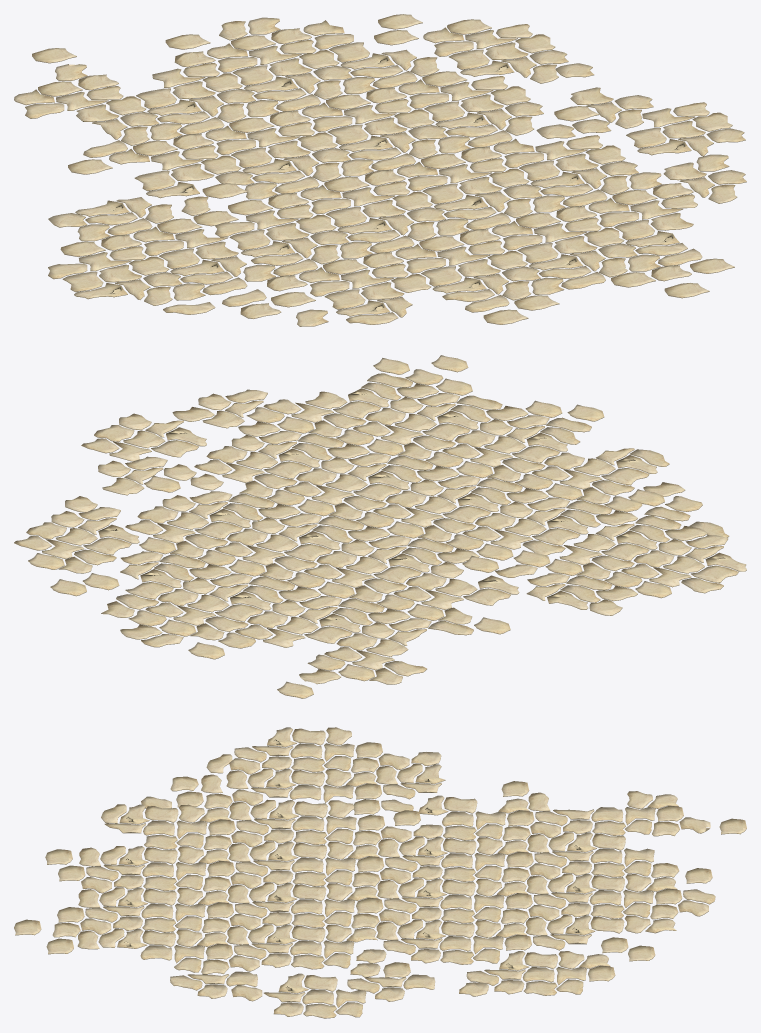
The model's file is SueloPiedraGrande.fbx.
The picture shows the model from 3 angles, top to bottom: view 1: azimuth 30°, elevation 25°; view 2: azimuth 150°, elevation 25°; view 3: azimuth 270°, elevation 25°; orthographic projection. The views are drawn at different scales.
Parts seen in each view (by area): view 1: Cube_025; view 2: Cube_025; view 3: Cube_025.
Part boxes in pixels (x1,y1,x2,y2): Cube_025: [14, 14, 746, 326]; Cube_025: [14, 355, 746, 698]; Cube_025: [14, 727, 746, 1018].
Size of the model in its own units: 18320 by 295 by 19536.
